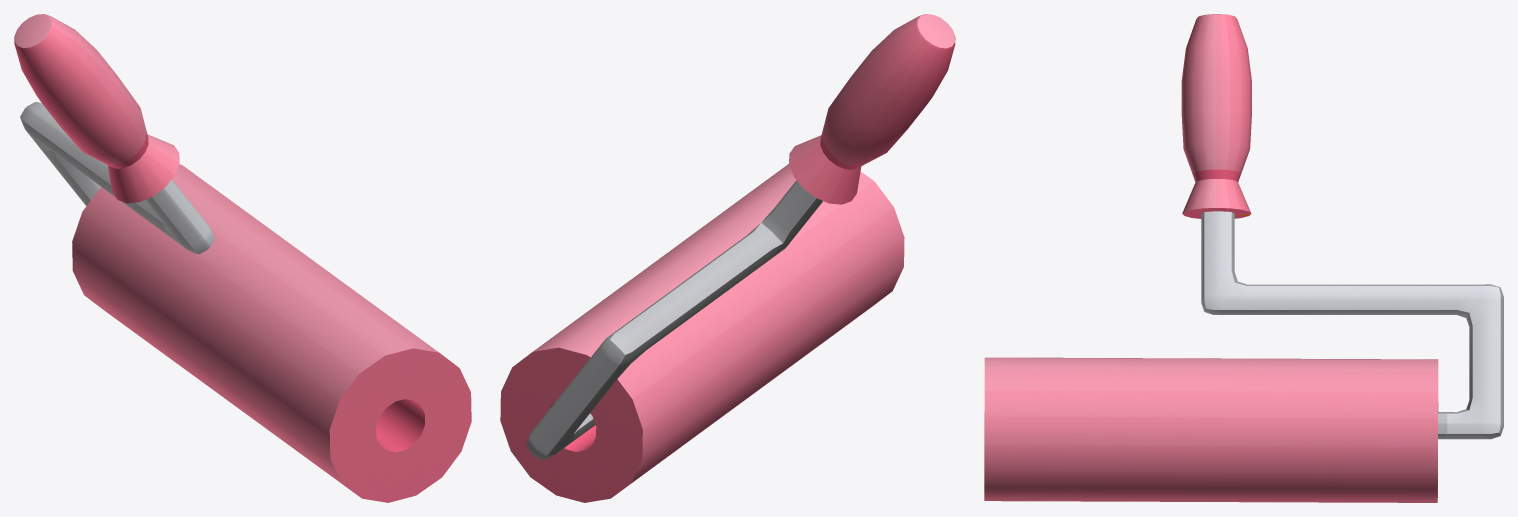
Rendered from SM_PaintRoller.fbx.
The picture shows the model from 3 angles, left to right: view 1: azimuth 30°, elevation 25°; view 2: azimuth 150°, elevation 25°; view 3: azimuth 270°, elevation 25°; orthographic projection. The views are drawn at different scales.
Visible parts, largest first — view 1: Paint Roller; view 2: Paint Roller; view 3: Paint Roller.
Boxes of the visible parts, x1,y1,x2,y2 form: Paint Roller: (14, 14, 471, 502); Paint Roller: (500, 14, 955, 502); Paint Roller: (984, 14, 1503, 502).
Size of the model in its own units: 25.73 by 33.71 by 40.95.
1 material, 1 textured.
